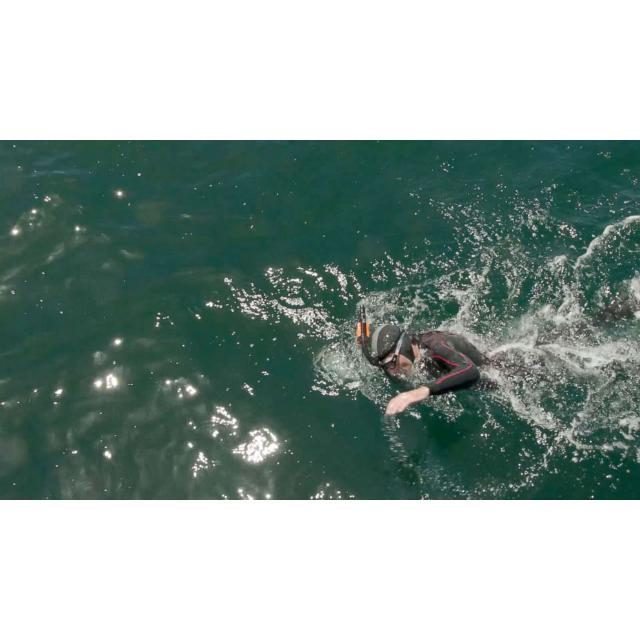human: (362, 316, 496, 419)
